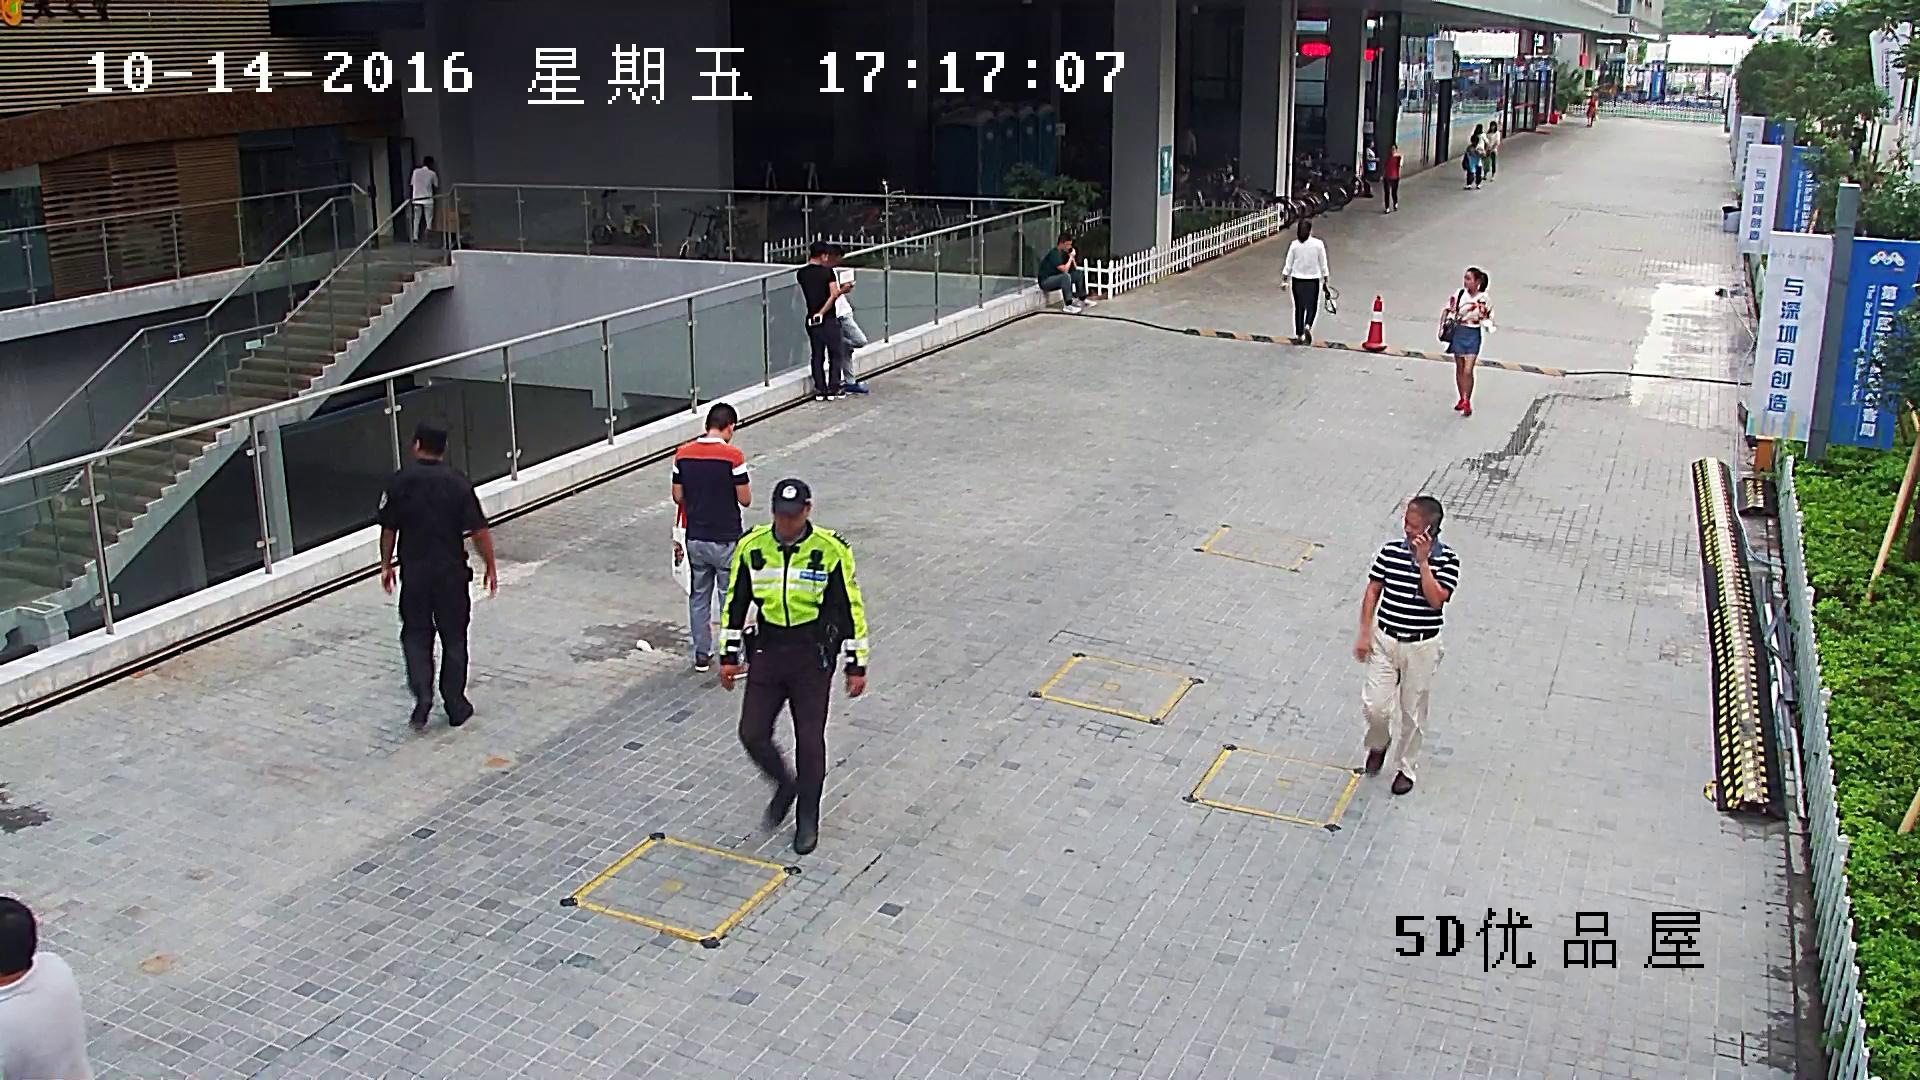person: (717, 478, 868, 854), (374, 421, 496, 725), (1355, 496, 1460, 792), (671, 400, 751, 679), (0, 897, 91, 1080), (796, 242, 847, 400), (1440, 267, 1492, 415), (1279, 220, 1341, 343), (828, 243, 868, 394), (1038, 233, 1097, 313), (409, 155, 439, 243), (1379, 144, 1401, 213), (1461, 135, 1483, 189), (1486, 120, 1500, 181), (1473, 123, 1489, 178), (1363, 140, 1378, 198), (1177, 128, 1197, 167), (1586, 94, 1597, 126)
